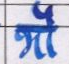ai_matra: (34, 3, 66, 29)
